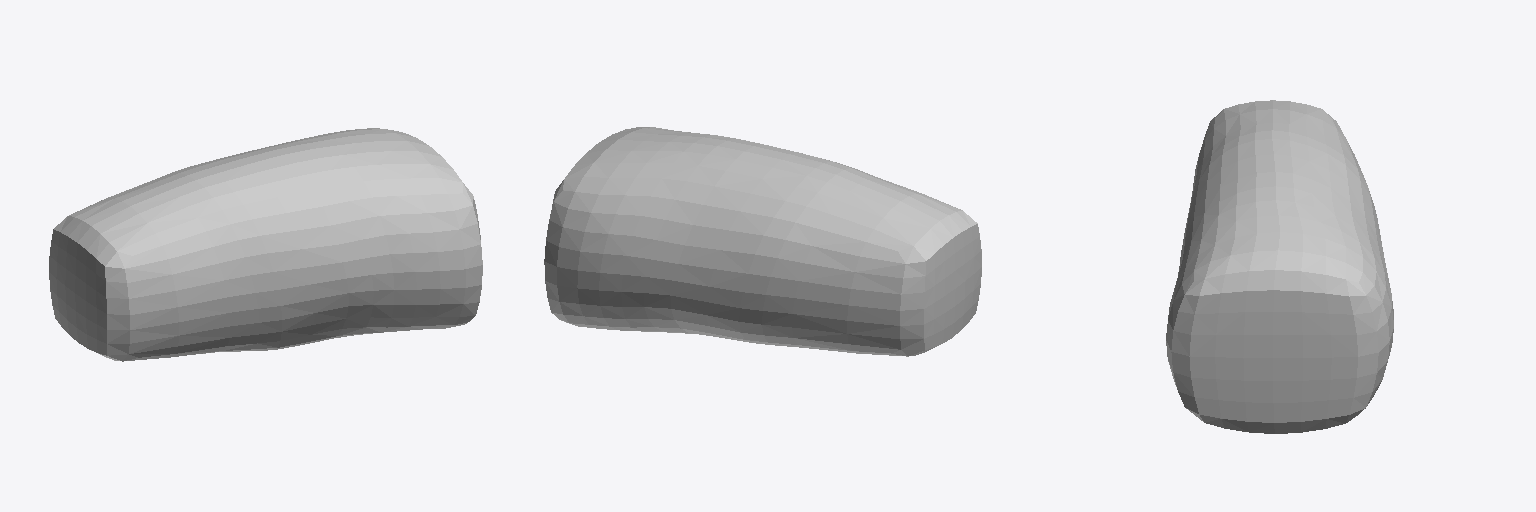
File: f_ruarm.obj
3 views of the same model, side by side, from view 1: azimuth 30°, elevation 25°; view 2: azimuth 150°, elevation 25°; view 3: azimuth 270°, elevation 25° (orthographic).
Parts seen in each view (by area): view 1: pCube5; view 2: pCube5; view 3: pCube5.
Boxes of the visible parts, x1,y1,x2,y2 form: pCube5: [49, 128, 482, 361]; pCube5: [544, 127, 981, 356]; pCube5: [1166, 100, 1393, 433].
Size of the model in its own units: 0.8968 by 0.4502 by 0.4814.